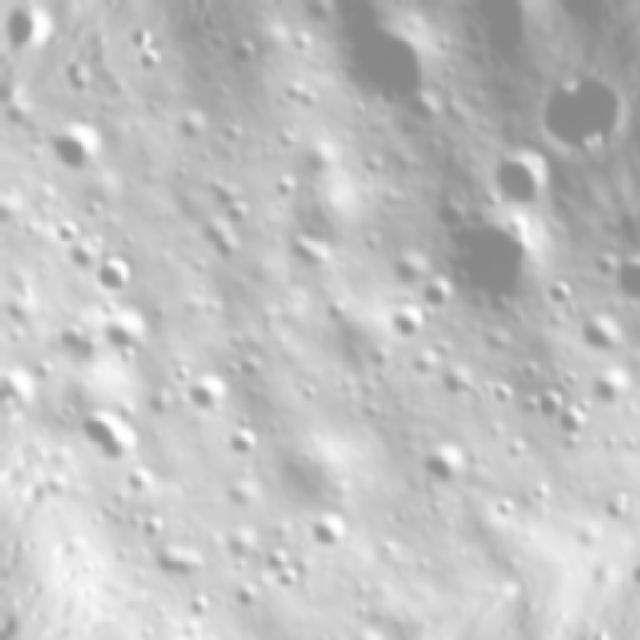crater: (304, 0, 462, 142), (412, 193, 560, 330), (437, 0, 555, 83), (463, 132, 562, 225), (62, 391, 149, 487), (521, 77, 596, 168), (29, 111, 116, 189), (400, 427, 478, 502), (172, 356, 242, 426), (88, 307, 160, 371), (286, 0, 432, 26), (568, 302, 630, 363), (86, 246, 148, 300), (540, 394, 600, 449), (302, 503, 356, 559), (210, 419, 268, 468), (219, 576, 270, 619), (115, 461, 162, 504), (606, 255, 640, 313), (257, 539, 294, 581), (270, 559, 313, 593), (632, 329, 640, 389)
